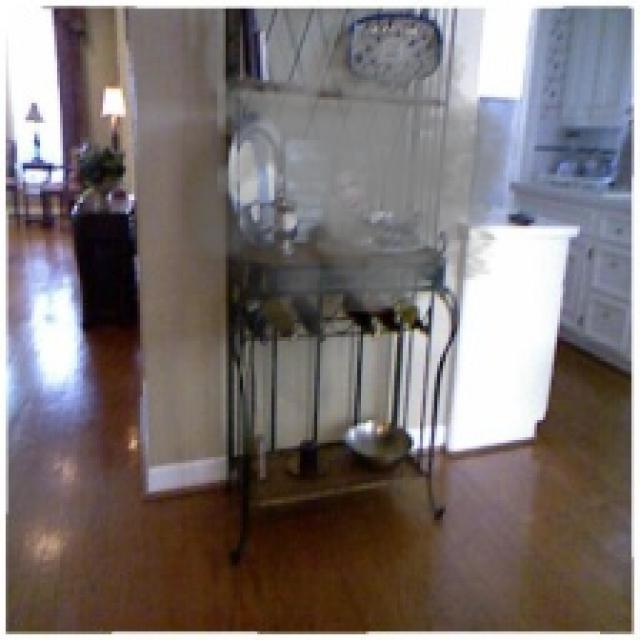Smoke: (175, 14, 534, 420)
